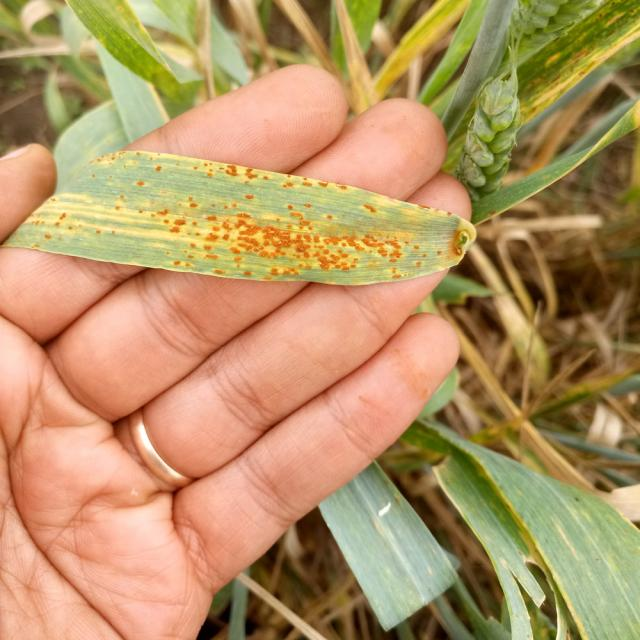wheat-stemrust: (4, 149, 477, 289)
